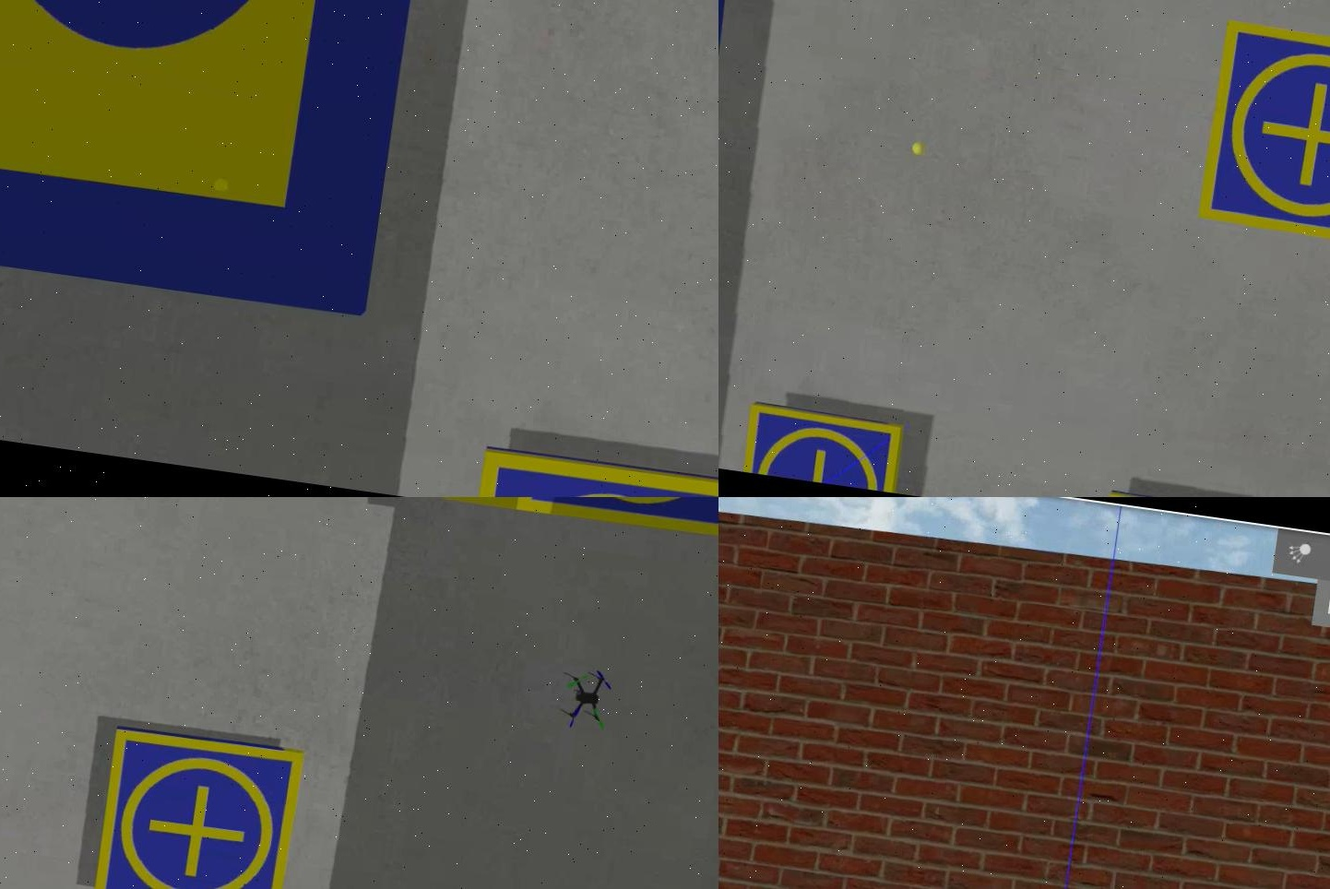large_base: (0, 1, 441, 312)
small_base: (86, 727, 303, 889), (1193, 18, 1328, 251), (740, 402, 907, 494), (479, 450, 717, 498)
